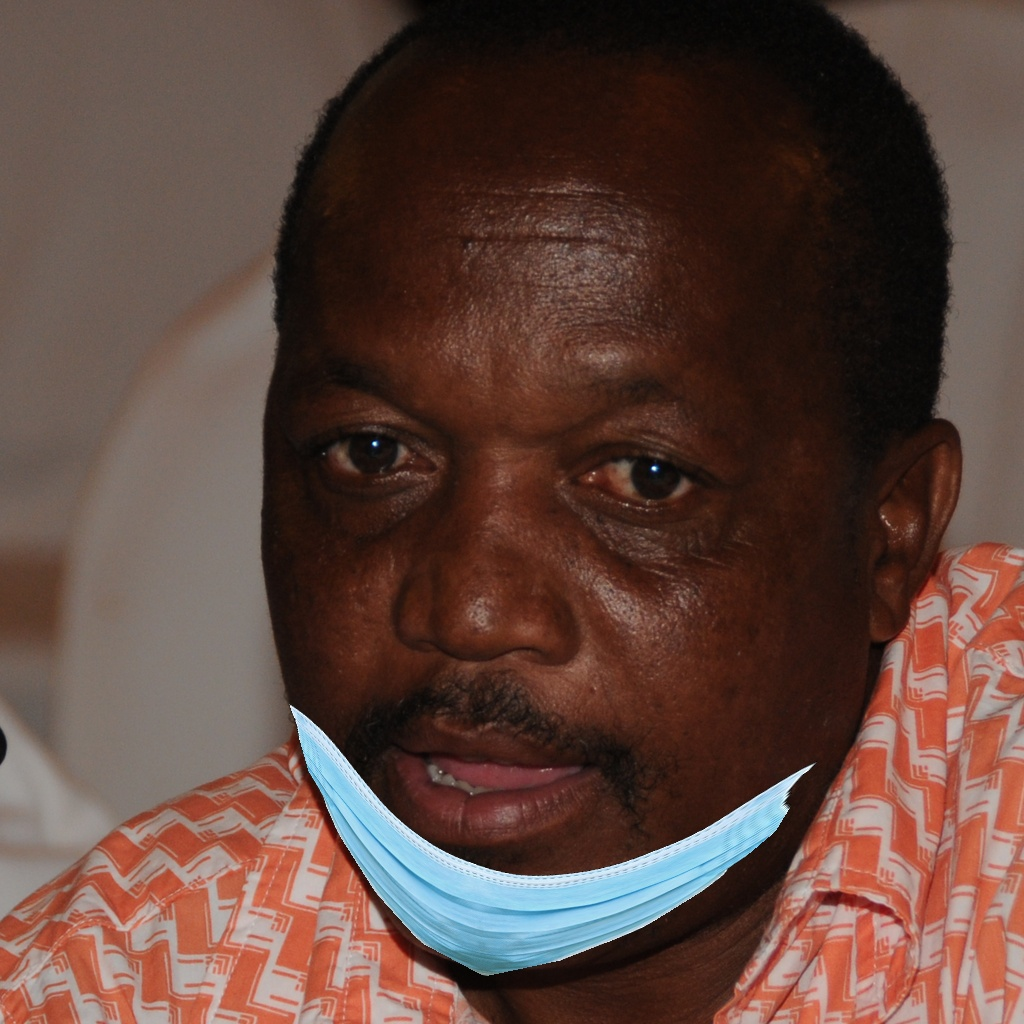mascarilla_mal_puesta: (264, 373, 862, 953)
